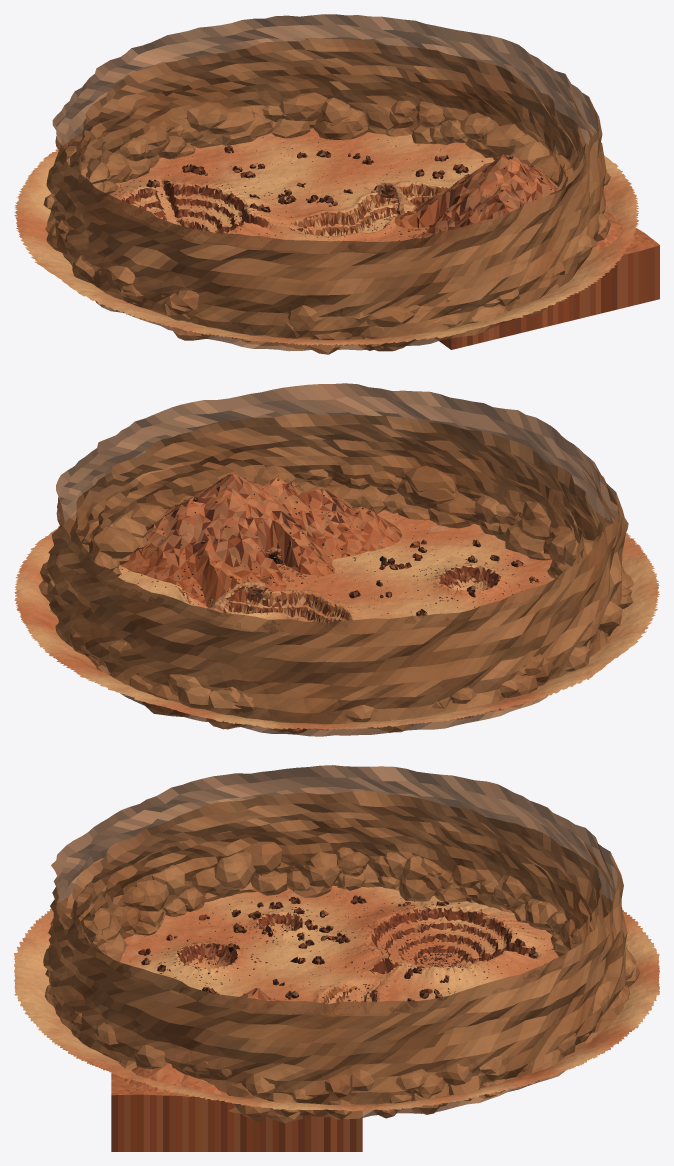
File: mars_map.glb
The picture shows the model from 3 angles, top to bottom: view 1: azimuth 30°, elevation 25°; view 2: azimuth 150°, elevation 25°; view 3: azimuth 270°, elevation 25°; orthographic projection. The views are drawn at different scales.
Parts seen in each view (by area): view 1: MARS_Dust_Storm_Wall, MARS_Terrain, MARS_Mountain_Range, MARS_Boulders_Outcrops, MARS_Stone_Arch; view 2: MARS_Dust_Storm_Wall, MARS_Terrain, MARS_Mountain_Range, MARS_Boulders_Outcrops, MARS_Stone_Arch; view 3: MARS_Dust_Storm_Wall, MARS_Terrain, MARS_Mountain_Range, MARS_Boulders_Outcrops.
Part boxes in pixels (box(x1,y1,x2,y2)): MARS_Dust_Storm_Wall: box(43, 14, 610, 354); MARS_Terrain: box(14, 127, 638, 345); MARS_Mountain_Range: box(394, 154, 659, 349); MARS_Boulders_Outcrops: box(113, 137, 551, 248); MARS_Stone_Arch: box(371, 182, 416, 220); MARS_Dust_Storm_Wall: box(38, 383, 633, 736); MARS_Terrain: box(14, 508, 659, 729); MARS_Mountain_Range: box(120, 473, 401, 606); MARS_Boulders_Outcrops: box(121, 473, 545, 633); MARS_Stone_Arch: box(207, 581, 268, 616); MARS_Dust_Storm_Wall: box(43, 765, 640, 1123); MARS_Terrain: box(14, 880, 659, 1111); MARS_Mountain_Range: box(111, 988, 362, 1151); MARS_Boulders_Outcrops: box(127, 894, 553, 1010).
Size of the model in its own units: 1203 by 314 by 1203.
